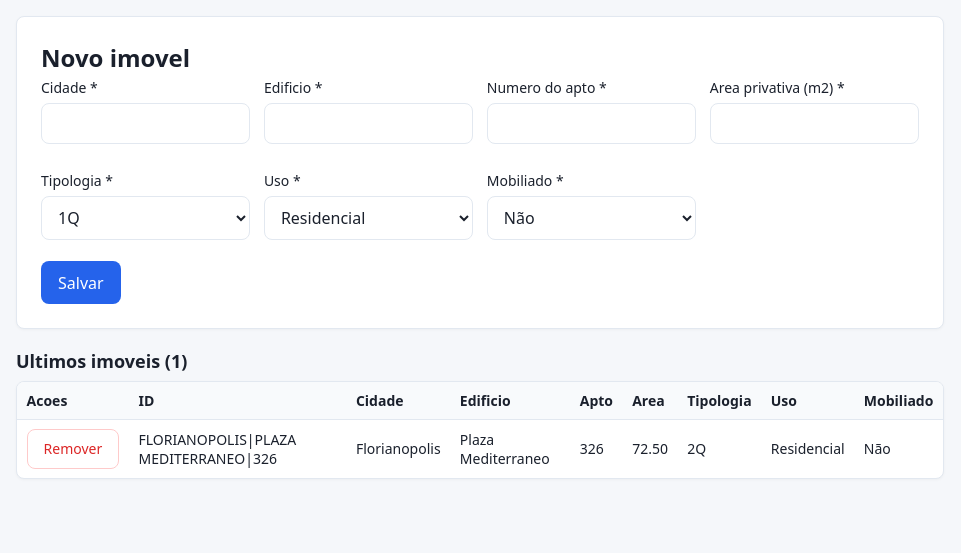
Test case: CadastroImoveisContent › shows remove errors and clears the removing state
Expected: the text "Plaza Mediterraneo" is shown, [450,419,570,478]
Click the button "Remover".
click(73, 449)  # box [27,429,119,469]
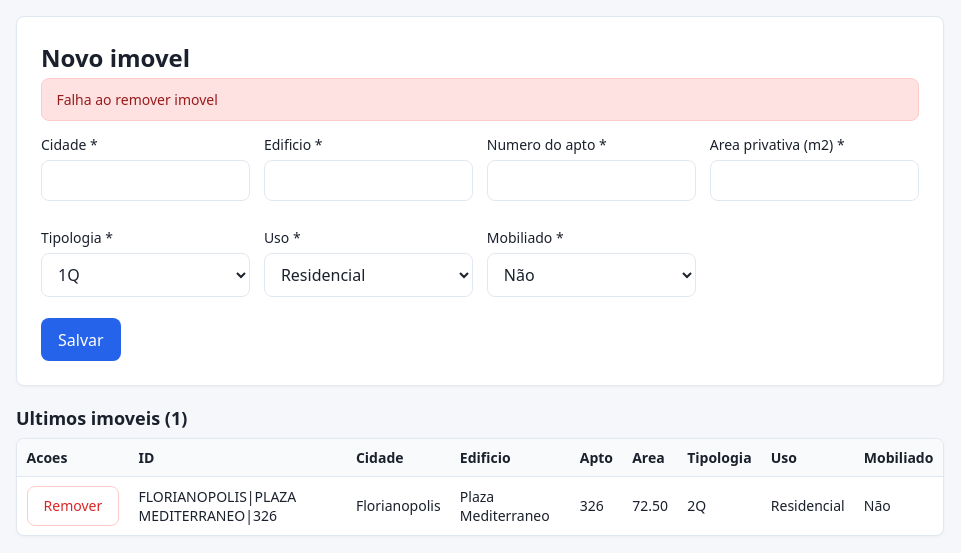
Expected: the button "Remover" is enabled, [27,486,119,526]
Expected: the text "Falha ao remover imovel" is shown, [41,78,919,121]
